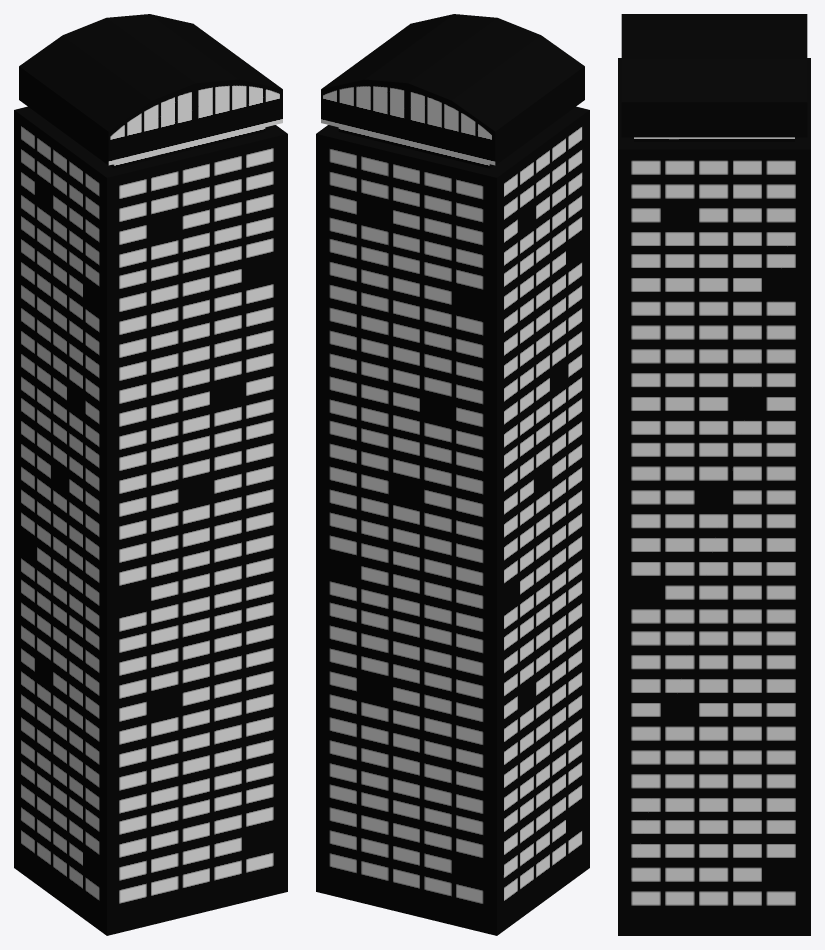
Rendered from building_02.FBX.
3 renders of one model, left to right at view 1: azimuth 30°, elevation 25°; view 2: azimuth 150°, elevation 25°; view 3: azimuth 270°, elevation 25°, orthographic. The views are drawn at different scales.
Parts seen in each view (by area): view 1: building_02; view 2: building_02; view 3: building_02.
Boxes of the visible parts, x1=… form: building_02: x1=14, y1=14, x2=287, y2=935; building_02: x1=316, y1=14, x2=589, y2=935; building_02: x1=618, y1=14, x2=810, y2=935.
Size of the model in its own units: 141 by 619 by 126.
